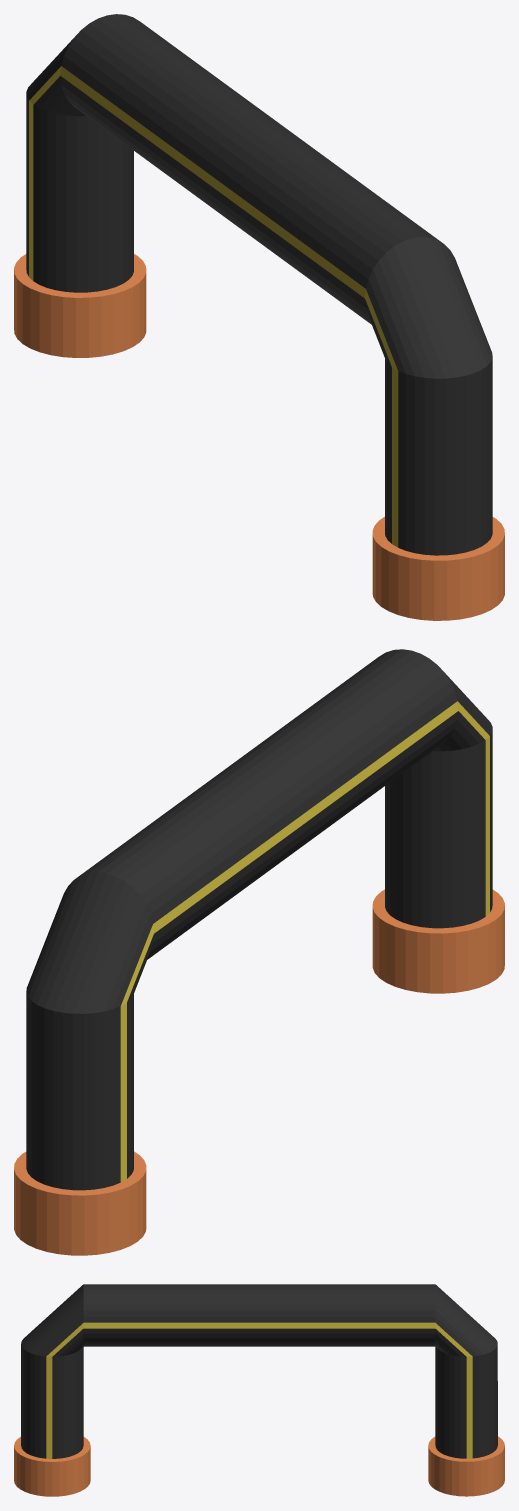
File: Barrier.glb
The picture shows the model from 3 angles, top to bottom: view 1: azimuth 30°, elevation 25°; view 2: azimuth 150°, elevation 25°; view 3: azimuth 270°, elevation 25°; orthographic projection. The views are drawn at different scales.
Parts seen in each view (by area): view 1: Cylinder.010; view 2: Cylinder.010; view 3: Cylinder.010.
Part boxes in pixels (x1=…): Cylinder.010: x1=14, y1=14, x2=504, y2=620; Cylinder.010: x1=14, y1=649, x2=504, y2=1255; Cylinder.010: x1=14, y1=1284, x2=504, y2=1496.
Bounding box in the file's own units: 0.3051 × 0.8491 × 1.95.
